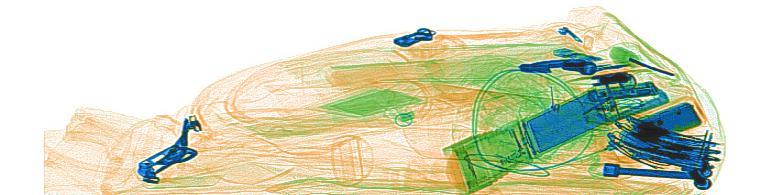USBFlashDisk: (553, 43, 605, 66)
battery: (523, 85, 610, 157)
